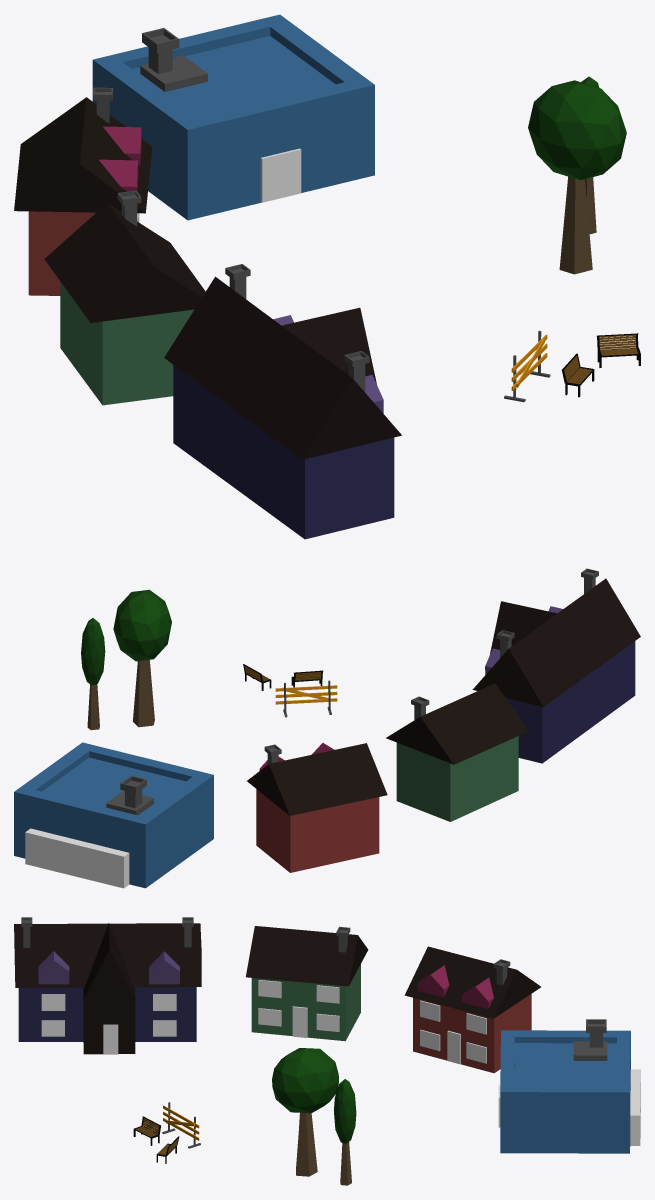
Rendered from every model for serg.fbx.
3 views of the same model, one above another, from view 1: azimuth 30°, elevation 25°; view 2: azimuth 150°, elevation 25°; view 3: azimuth 270°, elevation 25° (orthographic). The views are drawn at different scales.
Visible parts, largest first — view 1: Cube.014, Circle.004, Cube.004, Circle, Circle.003, Cube, Icosphere.022, Circle.008, Cube.003, Cylinder.005, Cube.015, Cube.016 (+4 smaller); view 2: Cube.014, Circle.004, Cube.003, Cube, Cube.004, Circle.003, Circle, Cube.009, Icosphere.022, Circle.008, Icosphere.001, Cylinder.005 (+3 smaller); view 3: Cube.014, Circle.004, Circle, Cube.004, Circle.008, Circle.003, Cube, Cube.003, Icosphere.022, Icosphere.001, Cylinder.005, Cube.009 (+18 smaller).
Boxes of the visible parts, x1,y1,x2,y2 form: Cube.014: (92, 14, 374, 220); Circle.004: (164, 276, 401, 459); Cube.004: (173, 365, 394, 539); Circle: (44, 202, 205, 322); Circle.003: (14, 97, 152, 213); Cube: (60, 281, 194, 405); Icosphere.022: (528, 80, 626, 180); Circle.008: (282, 307, 376, 384); Cube.003: (28, 211, 95, 295); Cylinder.005: (559, 176, 592, 274); Cube.015: (140, 55, 207, 91); Cube.016: (142, 28, 179, 74); Cube.014: (14, 742, 213, 888); Circle.004: (472, 578, 640, 706); Cube.003: (256, 789, 379, 872); Cube: (396, 736, 518, 821); Cube.004: (506, 641, 635, 763); Circle.003: (247, 743, 387, 815); Circle: (386, 683, 528, 764); Cube.009: (25, 828, 129, 888); Icosphere.022: (113, 589, 171, 661); Circle.008: (490, 601, 556, 654); Icosphere.001: (81, 618, 105, 685); Cylinder.005: (133, 660, 154, 727); Cube.014: (500, 1030, 630, 1153); Circle.004: (14, 923, 201, 987); Circle: (246, 926, 368, 986); Cube.004: (18, 987, 196, 1041); Circle.008: (83, 923, 135, 1054); Circle.003: (404, 946, 540, 1018); Cube: (251, 964, 360, 1041); Cube.003: (413, 994, 531, 1073); Icosphere.022: (272, 1048, 338, 1113); Icosphere.001: (334, 1079, 356, 1143); Cylinder.005: (296, 1112, 317, 1176); Cube.009: (630, 1069, 640, 1145).
Bounding box in the file's own units: 930 × 314 × 1303.
